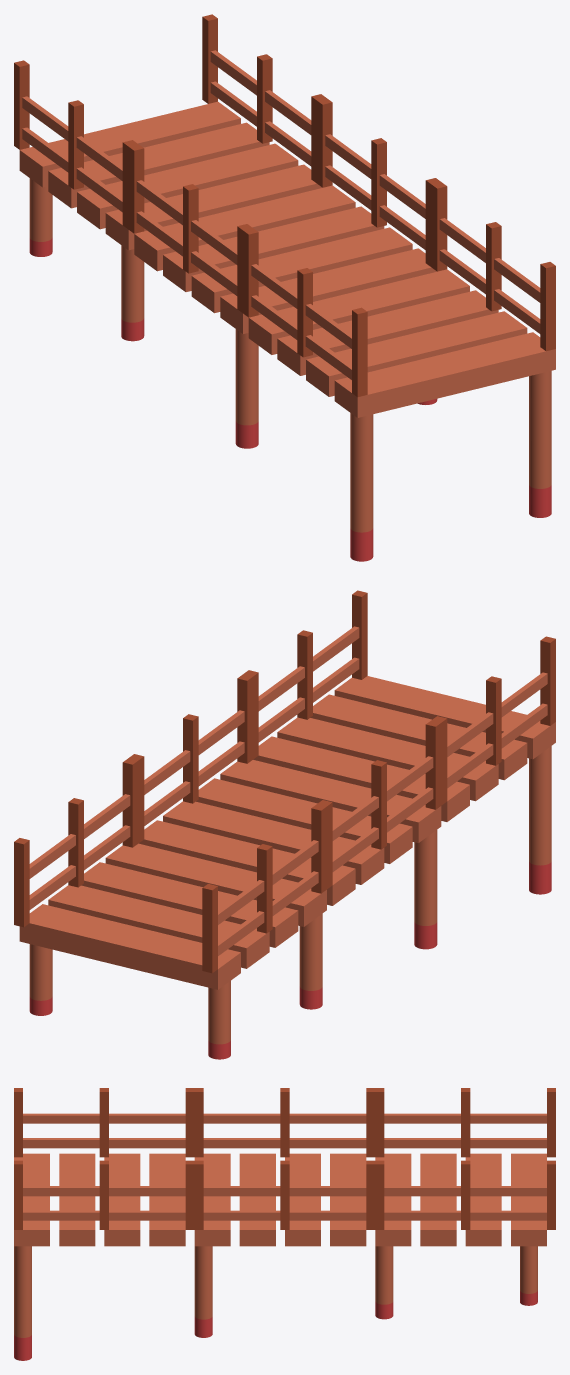
Rendered from jetty.glb.
3 views of the same model, one above another, from view 1: azimuth 30°, elevation 25°; view 2: azimuth 150°, elevation 25°; view 3: azimuth 270°, elevation 25° (orthographic). The views are drawn at different scales.
Parts seen in each view (by area): view 1: mergedBlocks(Clone); view 2: mergedBlocks(Clone); view 3: mergedBlocks(Clone).
Boxes of the visible parts, <box> form: mergedBlocks(Clone): <box>14,14,555,561</box>; mergedBlocks(Clone): <box>14,590,555,1059</box>; mergedBlocks(Clone): <box>14,1088,555,1360</box>.
Bounding box in the file's own units: 1 × 1.2 × 3.
Materials: 1 (1 with a texture image).
